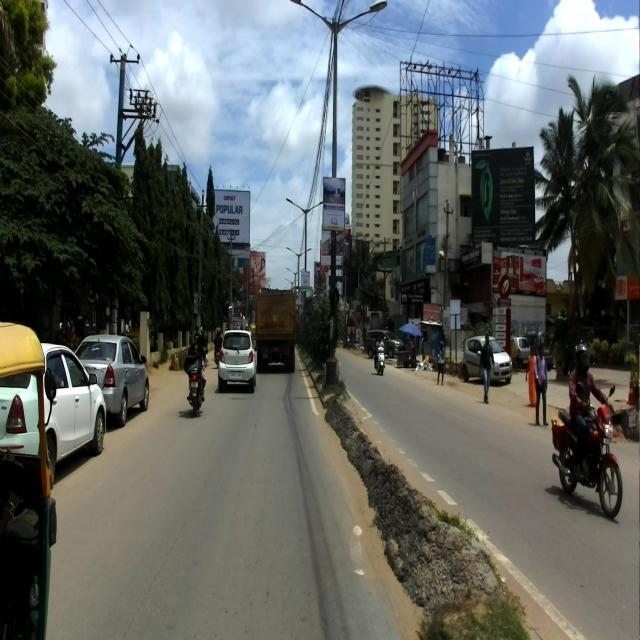Car: (0, 341, 106, 485)
Car_Maruti-Suzuki: (217, 329, 257, 395)
Car_Toyota: (74, 333, 150, 427)
autorickshaw: (0, 319, 57, 639)
motorcycle_bajaj: (551, 384, 623, 519)
truck: (256, 284, 298, 372)
